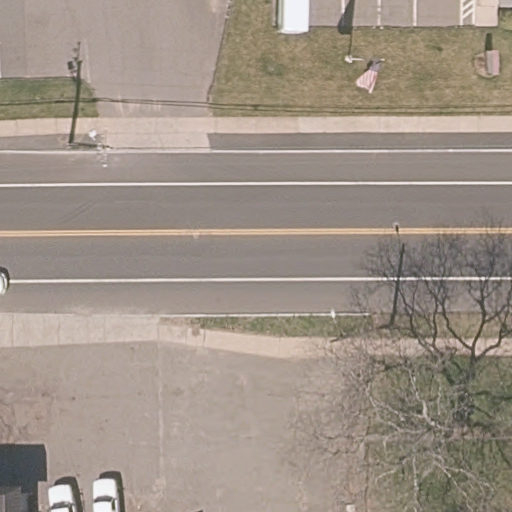DT: (88, 129, 112, 168)
